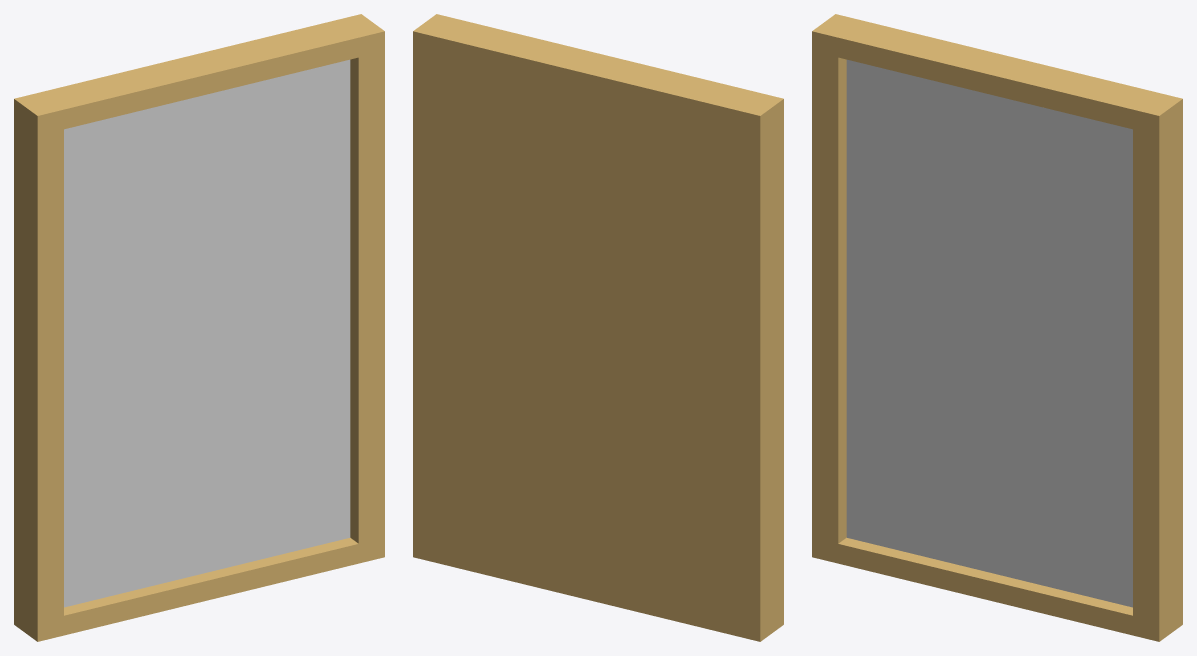
The model's file is Painting2.fbx.
The picture shows the model from 3 angles, left to right: view 1: azimuth 30°, elevation 25°; view 2: azimuth 150°, elevation 25°; view 3: azimuth 330°, elevation 25°; orthographic projection.
Parts seen in each view (by area): view 1: Painting_2; view 2: Painting_2; view 3: Painting_2.
Boxes of the visible parts, x1=… form: Painting_2: x1=14, y1=14, x2=384, y2=641; Painting_2: x1=413, y1=14, x2=783, y2=641; Painting_2: x1=812, y1=14, x2=1182, y2=641.
Bounding box in the file's own units: 80.81 × 117 × 9.52.
